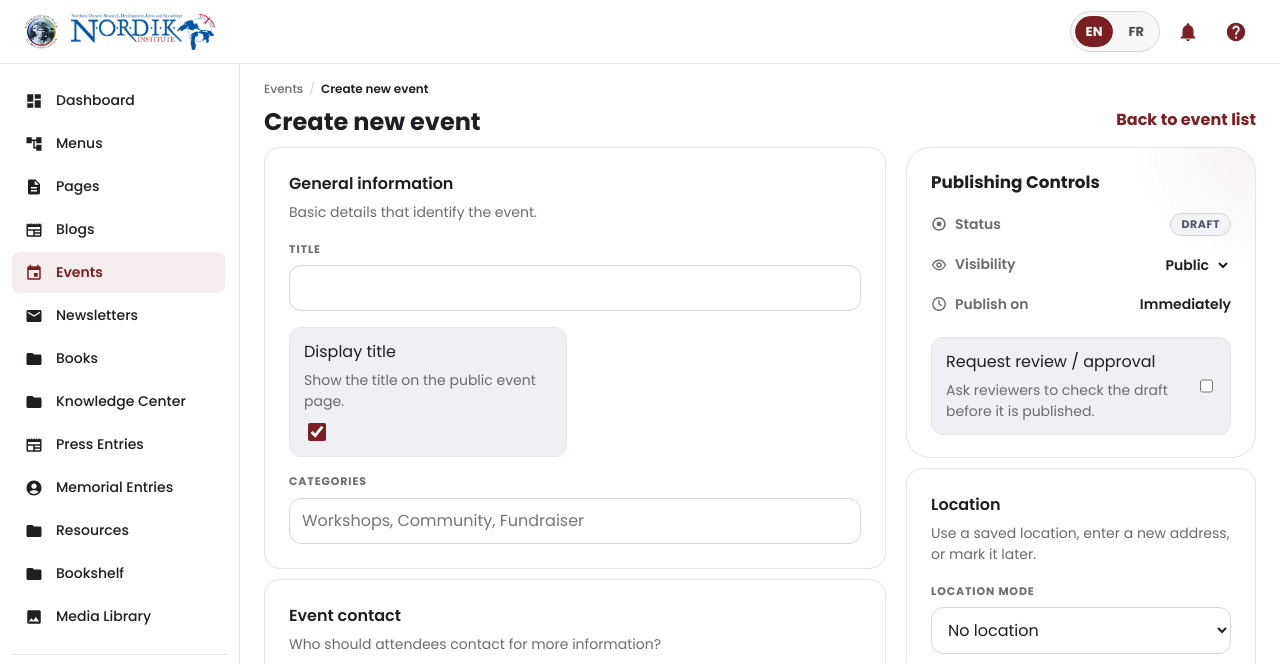
Test: EventEditorPage › shows inline errors for invalid contact email and phone values before submit
Check: the heading "Create new event" is shown, box x1=264 y1=108 x2=481 y2=137
Type "Spring Gathering" into the field labelled "Title" at (575, 288), box x1=289 y1=265 x2=861 y2=311
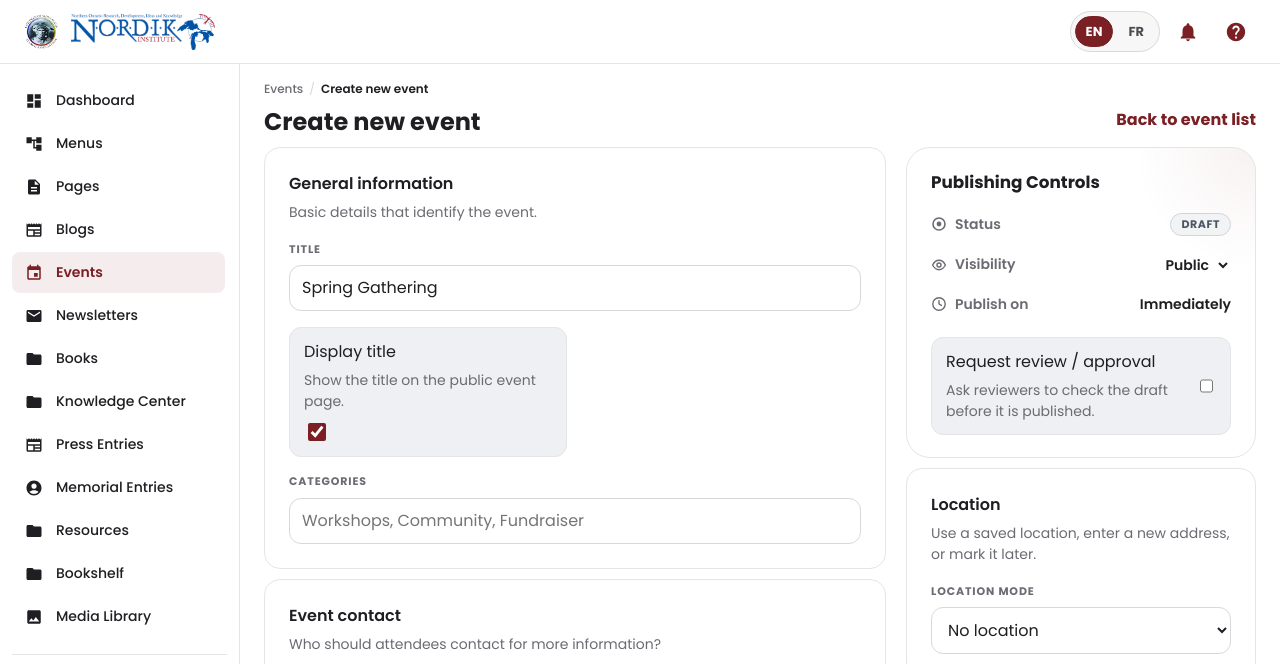
Type "Community" into the field labelled "Categories" at (575, 521), box x1=289 y1=498 x2=861 y2=544
(page scrolled)
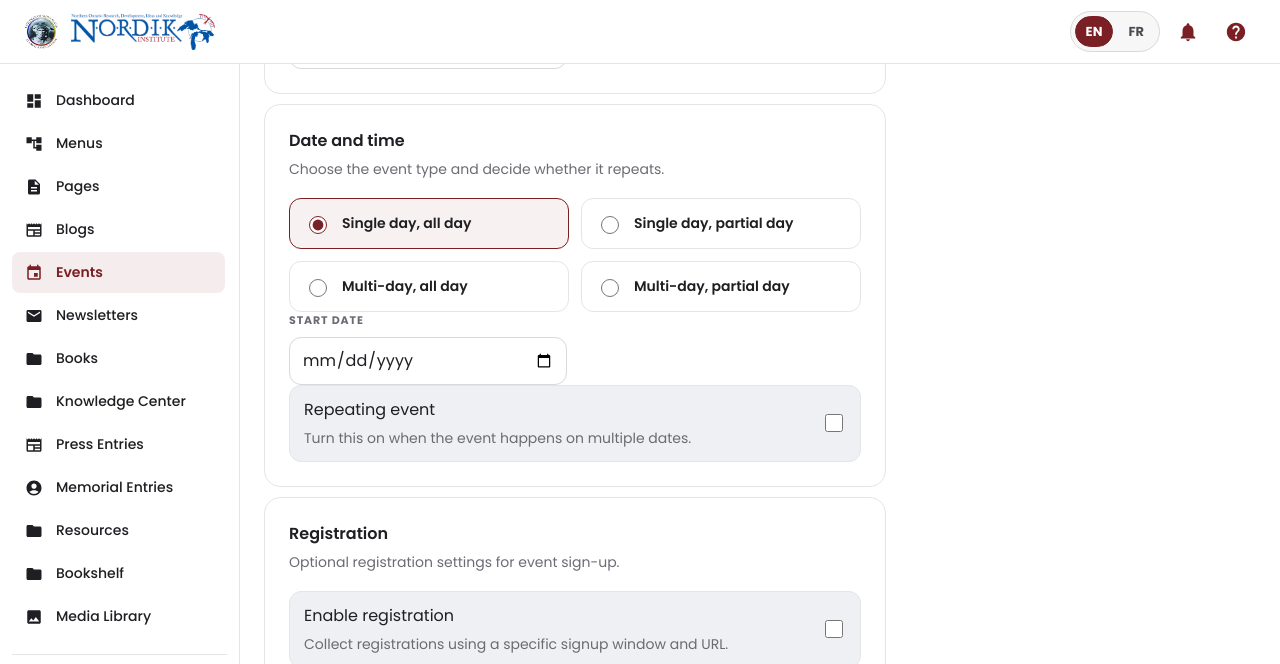
Type "2026-05-07" into the date field labelled "Start date" at (428, 361), box x1=289 y1=337 x2=567 y2=385
(page scrolled)
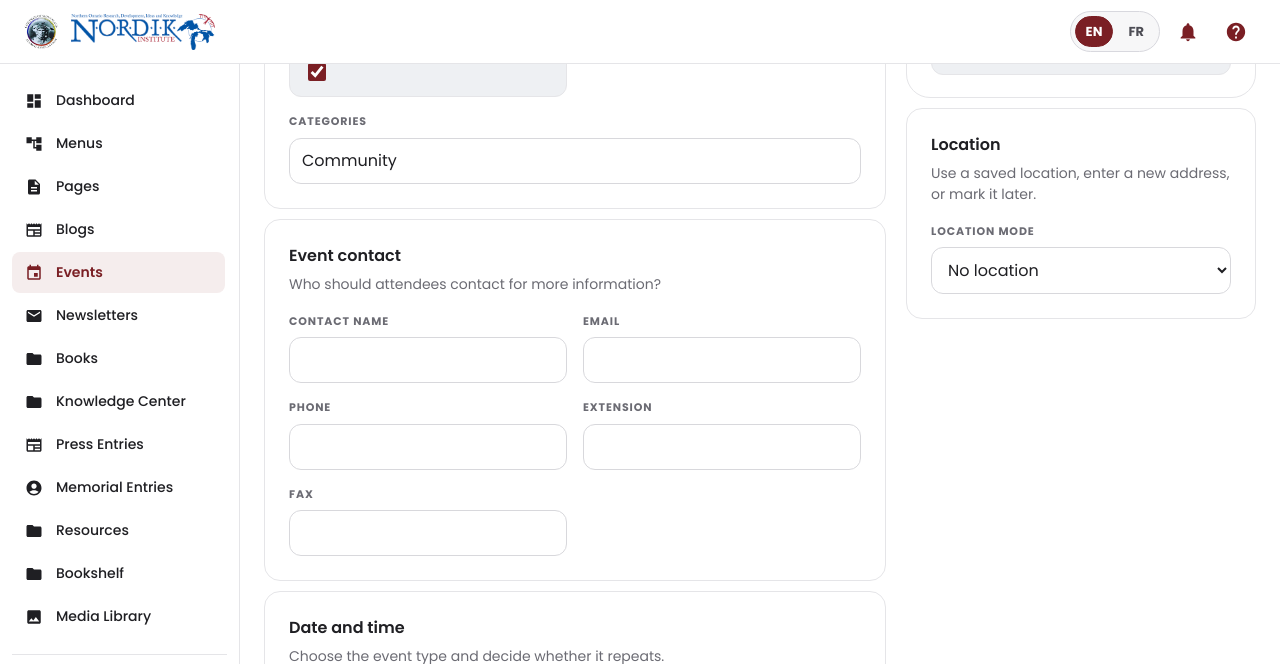
Type "contact@example..com" into the field labelled "Email" at (722, 360), box x1=583 y1=337 x2=861 y2=383
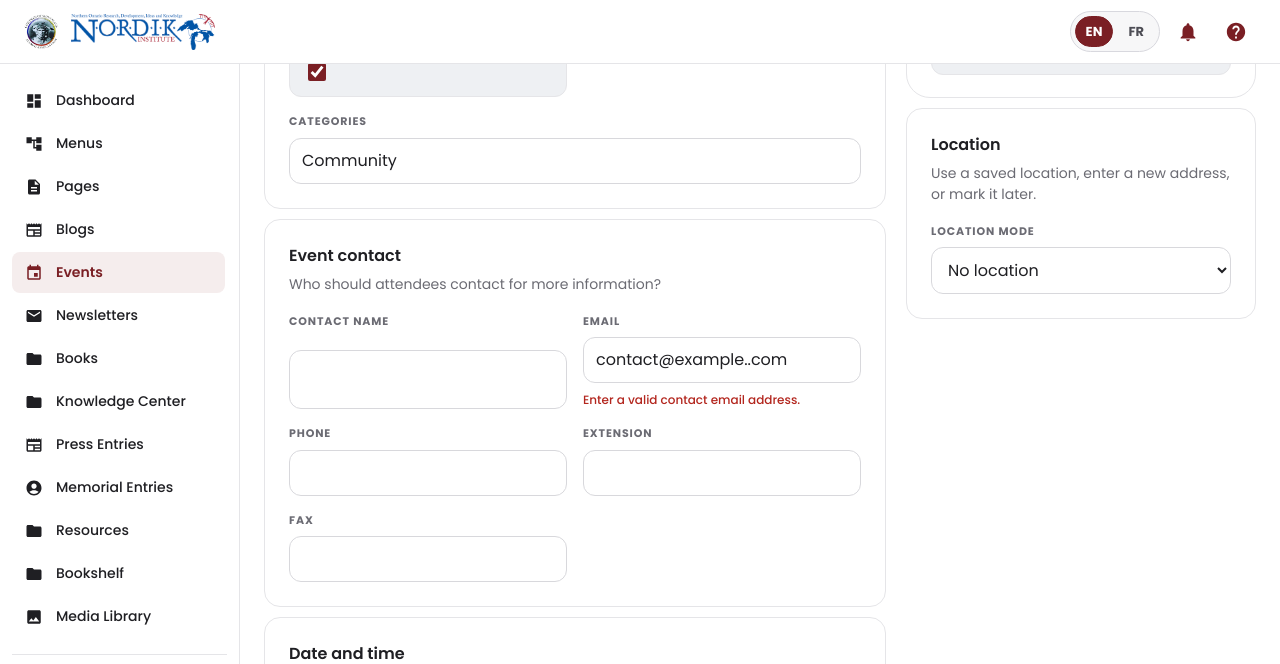
Type "1234567" into the field labelled "Phone" at (428, 473), box x1=289 y1=450 x2=567 y2=496
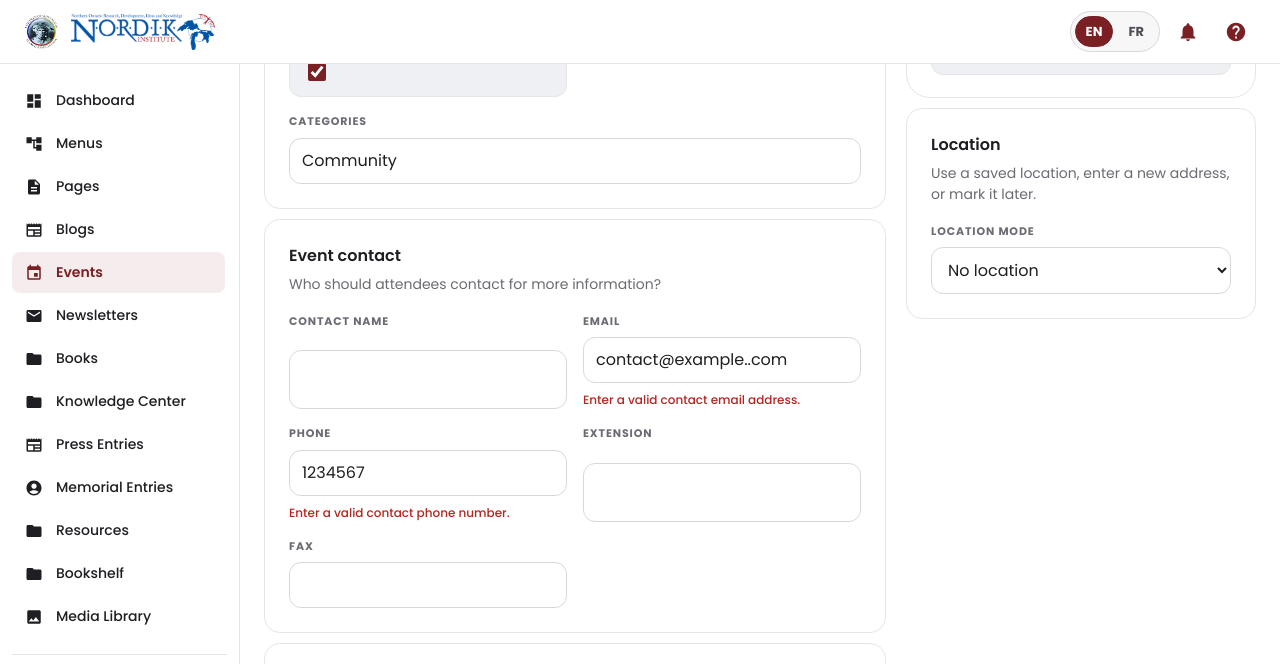
Check: the text "Enter a valid contact email address." is shown, box x1=583 y1=391 x2=800 y2=408
Check: the text "Enter a valid contact phone number." is shown, box x1=289 y1=504 x2=510 y2=521
